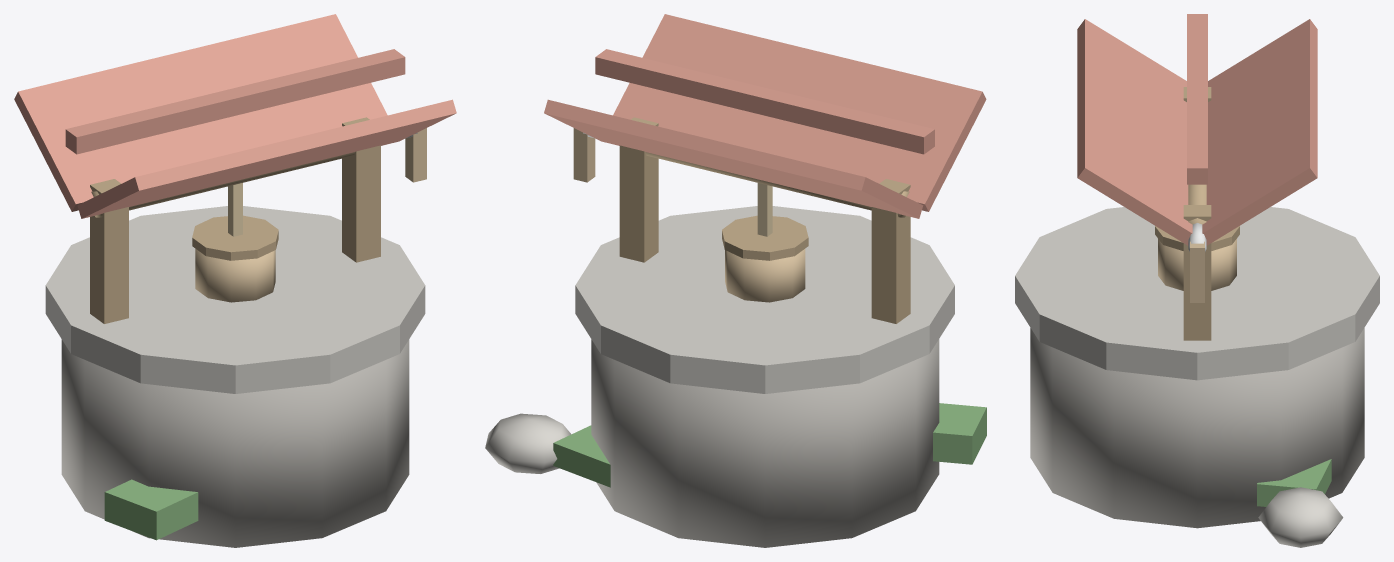
File: well.fbx
The picture shows the model from 3 angles, left to right: view 1: azimuth 30°, elevation 25°; view 2: azimuth 150°, elevation 25°; view 3: azimuth 270°, elevation 25°; orthographic projection. The views are drawn at different scales.
Parts seen in each view (by area): view 1: EN_well; view 2: EN_well; view 3: EN_well.
Part boxes in pixels (<box>): EN_well: <box>14,14,456,547</box>; EN_well: <box>485,14,986,547</box>; EN_well: <box>1015,14,1379,547</box>.
Bounding box in the file's own units: 143 × 133 × 120.
